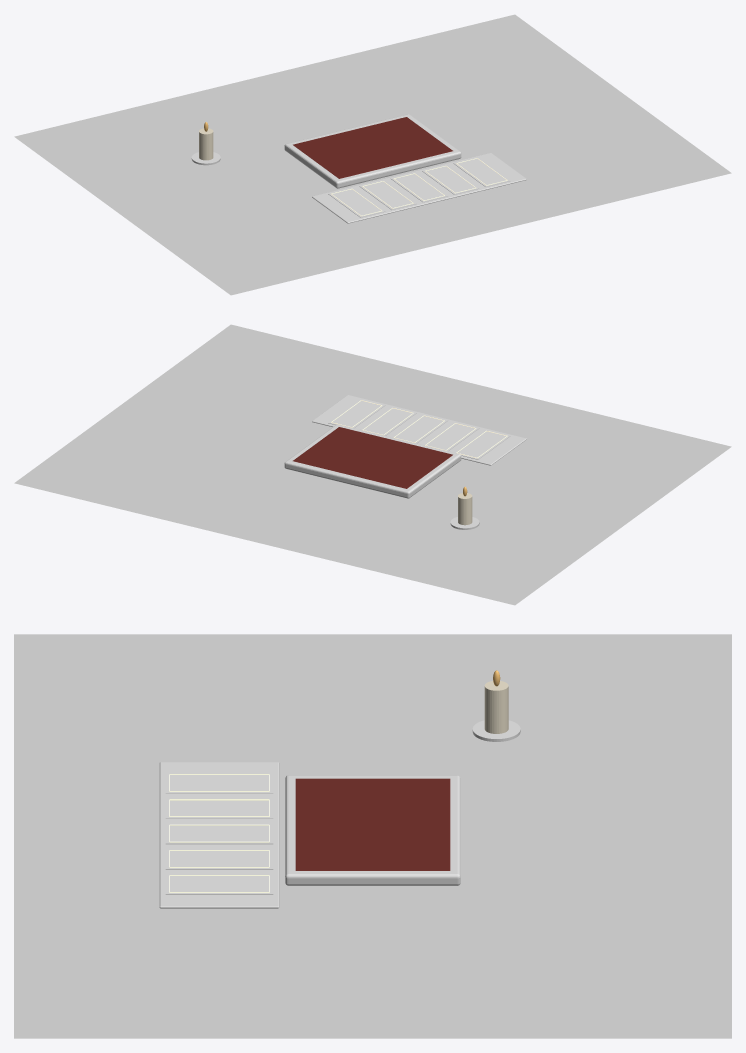
File: AnatBenchSet.fbx
3 renders of one model, top to bottom at view 1: azimuth 30°, elevation 25°; view 2: azimuth 150°, elevation 25°; view 3: azimuth 270°, elevation 25°, orthographic. The views are drawn at different scales.
Parts seen in each view (by area): view 1: AnatBenchSet_Desk, AnatBenchSet_Roll, AnatBenchSet_Wax, AnatBenchSet_Tray, AnatBenchSet_Candle; view 2: AnatBenchSet_Desk, AnatBenchSet_Roll, AnatBenchSet_Wax, AnatBenchSet_Tray, AnatBenchSet_Candle; view 3: AnatBenchSet_Desk, AnatBenchSet_Roll, AnatBenchSet_Wax, AnatBenchSet_Tray, AnatBenchSet_Candle.
Part boxes in pixels (<box>): AnatBenchSet_Desk: <box>14,14,731,295</box>; AnatBenchSet_Roll: <box>312,153,526,223</box>; AnatBenchSet_Wax: <box>293,117,452,178</box>; AnatBenchSet_Tray: <box>284,114,461,188</box>; AnatBenchSet_Candle: <box>191,128,220,165</box>; AnatBenchSet_Desk: <box>14,324,731,605</box>; AnatBenchSet_Roll: <box>312,395,526,465</box>; AnatBenchSet_Wax: <box>293,427,452,488</box>; AnatBenchSet_Tray: <box>284,424,461,498</box>; AnatBenchSet_Candle: <box>450,493,479,529</box>; AnatBenchSet_Desk: <box>14,634,731,1038</box>; AnatBenchSet_Roll: <box>159,762,279,908</box>; AnatBenchSet_Wax: <box>295,778,450,870</box>; AnatBenchSet_Tray: <box>285,775,460,885</box>; AnatBenchSet_Candle: <box>472,681,520,741</box>.
Bounding box in the file's own units: 240 × 17 × 180.
